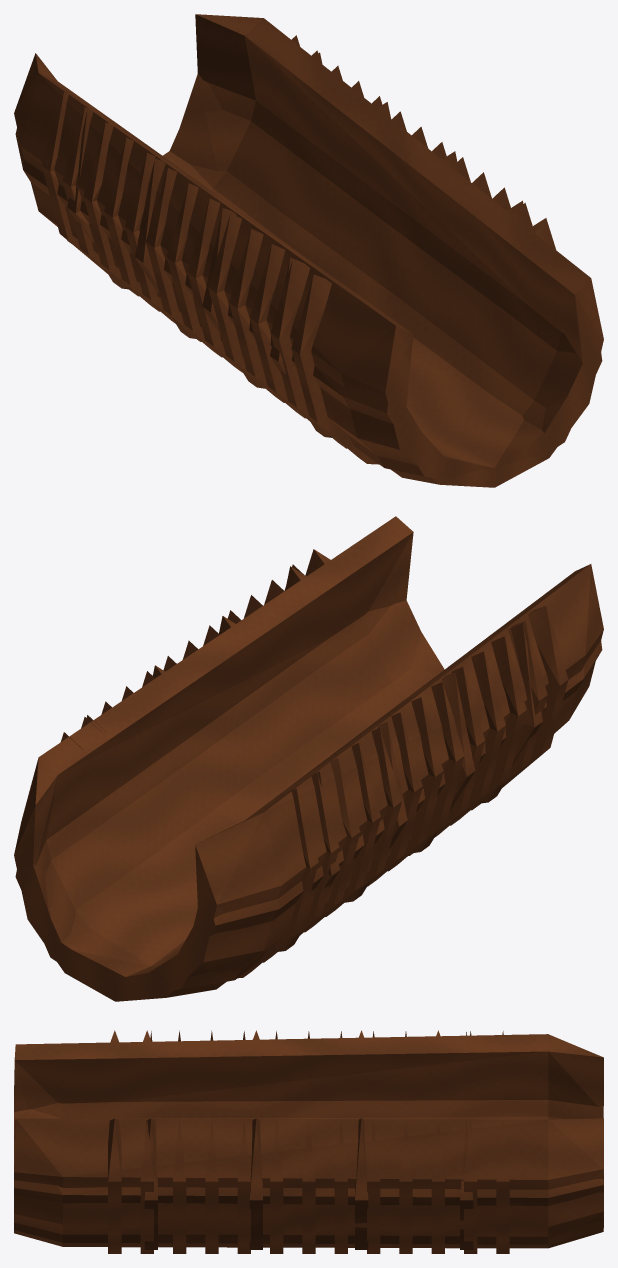
Rendered from sg_pump.glb.
The picture shows the model from 3 angles, top to bottom: view 1: azimuth 30°, elevation 25°; view 2: azimuth 150°, elevation 25°; view 3: azimuth 270°, elevation 25°; orthographic projection. The views are drawn at different scales.
Visible parts, largest first — view 1: handguard__sg_pump_LOD0_RAID_Secondary_Original_wood, handguard__sg_pump_LOD1_RAID_Secondary_Original_wood; view 2: handguard__sg_pump_LOD0_RAID_Secondary_Original_wood, handguard__sg_pump_LOD1_RAID_Secondary_Original_wood; view 3: handguard__sg_pump_LOD0_RAID_Secondary_Original_wood, handguard__sg_pump_LOD1_RAID_Secondary_Original_wood.
Boxes of the visible parts, left/top/right/bottom form: handguard__sg_pump_LOD0_RAID_Secondary_Original_wood: left=14, top=14, right=603, bottom=487; handguard__sg_pump_LOD1_RAID_Secondary_Original_wood: left=15, top=14, right=602, bottom=487; handguard__sg_pump_LOD0_RAID_Secondary_Original_wood: left=14, top=516, right=603, bottom=1001; handguard__sg_pump_LOD1_RAID_Secondary_Original_wood: left=15, top=518, right=602, bottom=990; handguard__sg_pump_LOD0_RAID_Secondary_Original_wood: left=14, top=1030, right=603, bottom=1253; handguard__sg_pump_LOD1_RAID_Secondary_Original_wood: left=14, top=1030, right=603, bottom=1249.
Bounding box in the file's own units: 0.1084 × 0.084 × 0.2651.
Materials: 1 (1 with a texture image).
